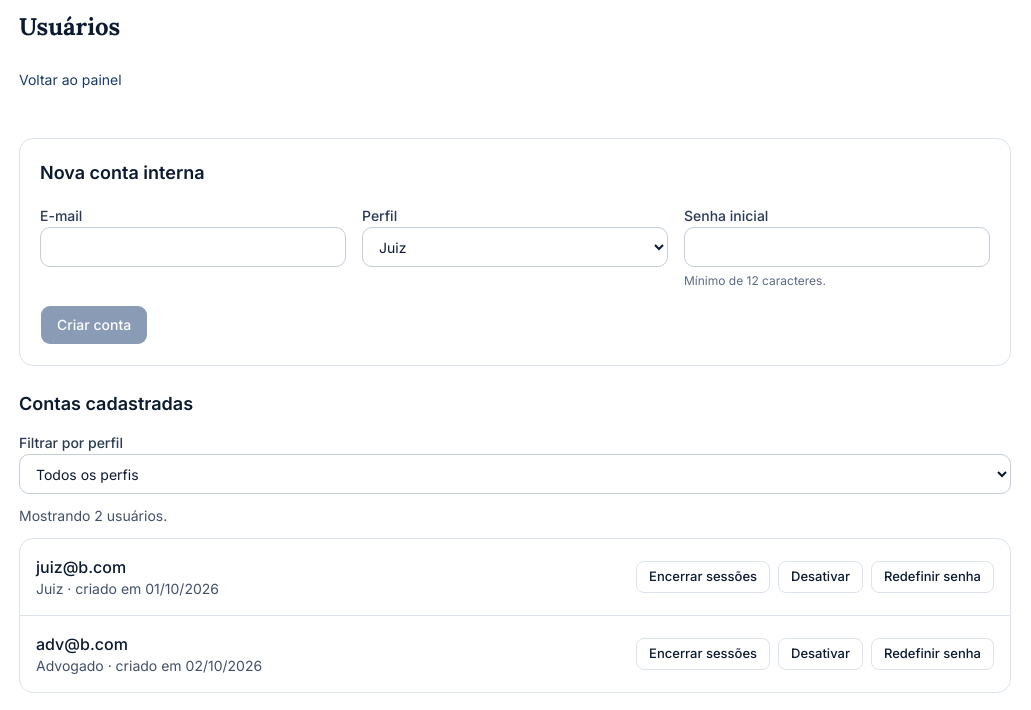
Scenario: UsersAdmin list controls › filters by role through the API
Expected: the text "juiz@b.com" is shown, x1=36 y1=557 x2=126 y2=577
Select "Juízes" in the dropdown labelled "Filtrar por perfil": (515, 474) x1=19 y1=454 x2=1011 y2=494
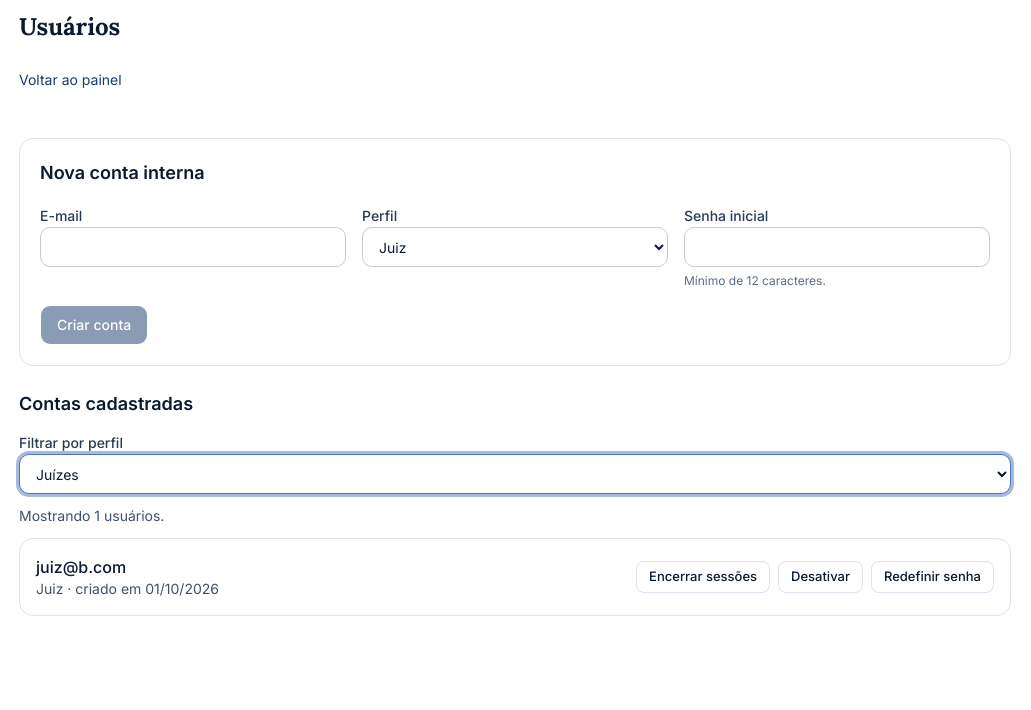
Expected: the text "adv@b.com" is gone
Expected: the text "Mostrando 1 usuários." is shown, x1=19 y1=507 x2=164 y2=524
